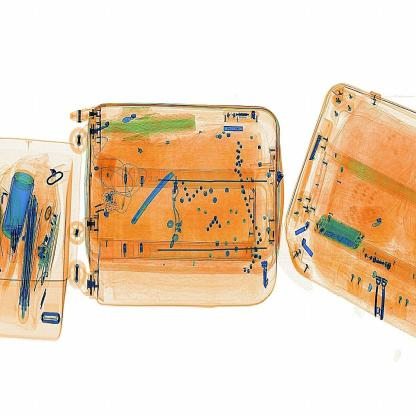pliers: (119, 167, 182, 226)
